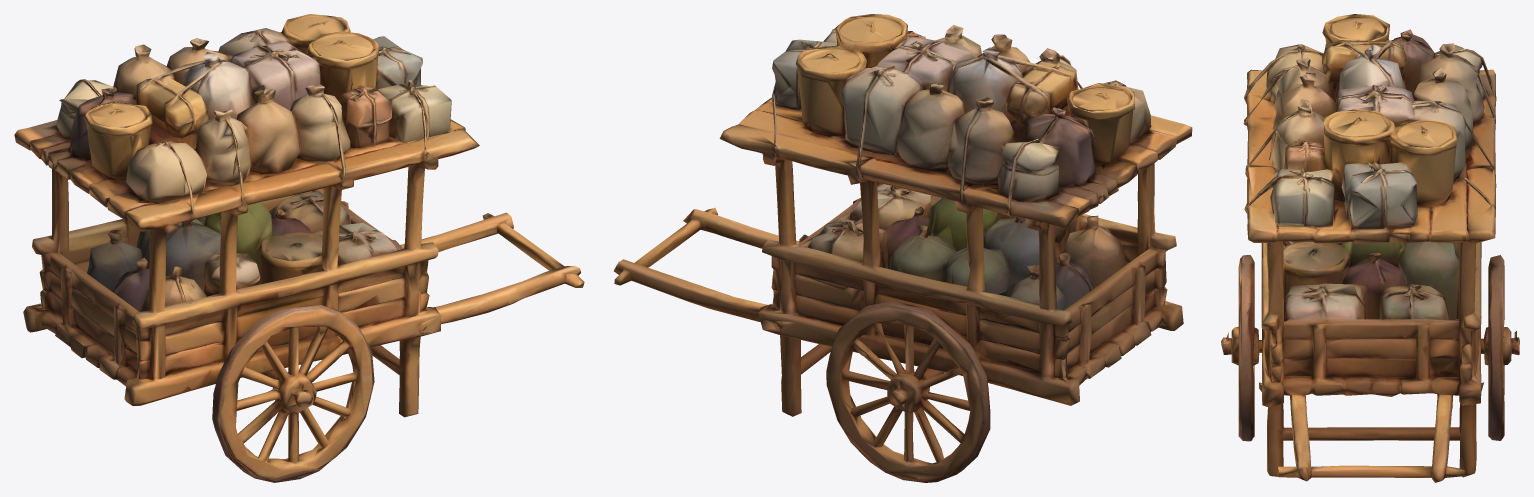
File: xe-cho-hang-vua.146ea64f.glb
3 views of the same model, side by side, from view 1: azimuth 30°, elevation 25°; view 2: azimuth 150°, elevation 25°; view 3: azimuth 270°, elevation 25° (orthographic). The views are drawn at different scales.
Visible parts, largest first — view 1: tripo_node_f5a4f33e-aff3-4c7f-aadc-f2dda5672677; view 2: tripo_node_f5a4f33e-aff3-4c7f-aadc-f2dda5672677; view 3: tripo_node_f5a4f33e-aff3-4c7f-aadc-f2dda5672677.
Part boxes in pixels (x1=…): tripo_node_f5a4f33e-aff3-4c7f-aadc-f2dda5672677: x1=14, y1=14, x2=584, y2=482; tripo_node_f5a4f33e-aff3-4c7f-aadc-f2dda5672677: x1=614, y1=14, x2=1192, y2=482; tripo_node_f5a4f33e-aff3-4c7f-aadc-f2dda5672677: x1=1221, y1=14, x2=1519, y2=482.
Bounding box in the file's own units: 0.9796 × 0.7549 × 0.5425.
1 material, 1 textured.
